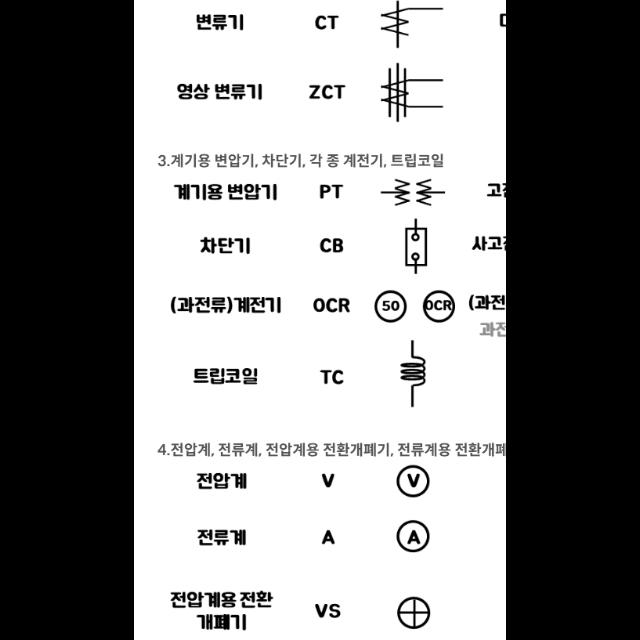A: (395, 521, 429, 551)
CB: (407, 227, 427, 266)
CT: (381, 8, 409, 36)
PT: (395, 178, 431, 206)
V: (397, 466, 428, 496)
VS: (396, 598, 430, 628)
ZCT: (382, 78, 410, 112)
